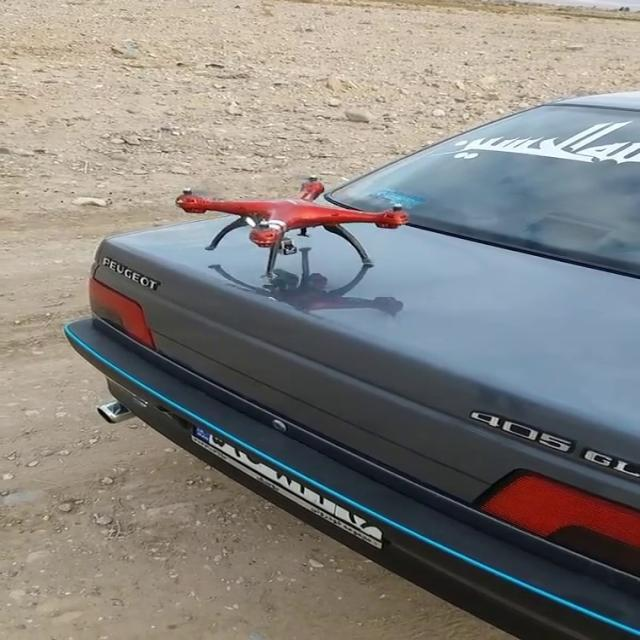drone: (164, 172, 426, 284)
